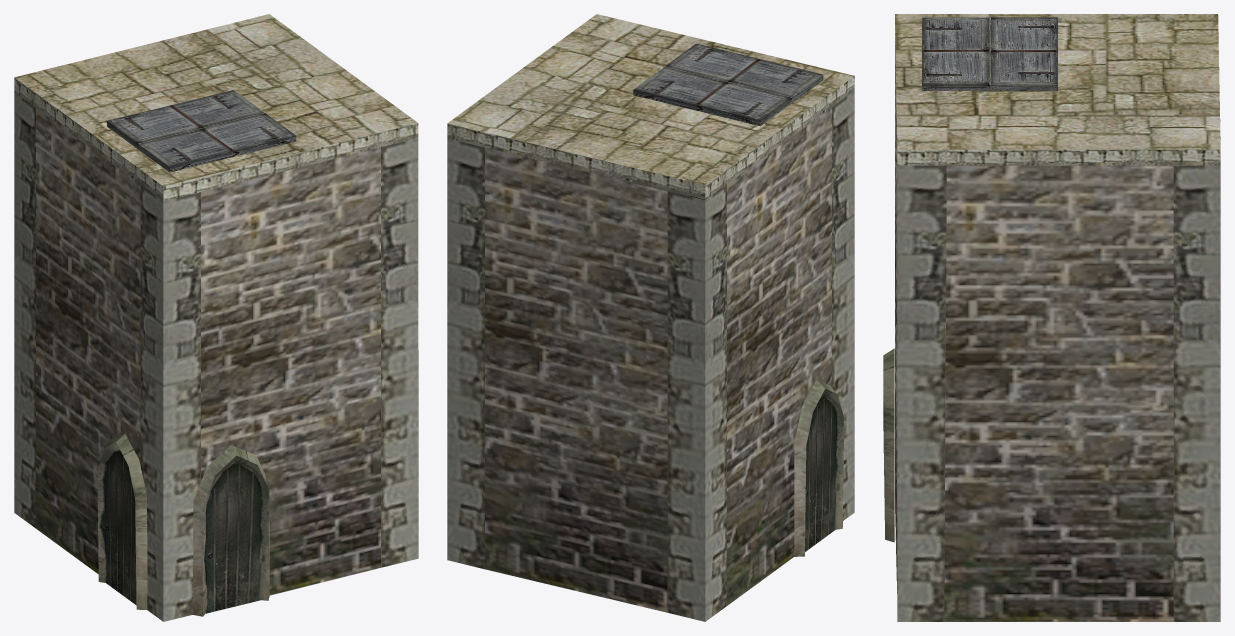
The model's file is building_tower_stairwell.glb.
3 renders of one model, left to right at view 1: azimuth 30°, elevation 25°; view 2: azimuth 150°, elevation 25°; view 3: azimuth 270°, elevation 25°, orthographic. The views are drawn at different scales.
Parts seen in each view (by area): view 1: building_tower_stairwell; view 2: building_tower_stairwell; view 3: building_tower_stairwell.
Boxes of the visible parts, x1,y1,x2,y2 form: building_tower_stairwell: [14, 14, 418, 621]; building_tower_stairwell: [447, 14, 854, 621]; building_tower_stairwell: [883, 14, 1220, 621].
Bounding box in the file's own units: 4.24 × 6.75 × 4.31.
Materials: 3 (3 with a texture image).
